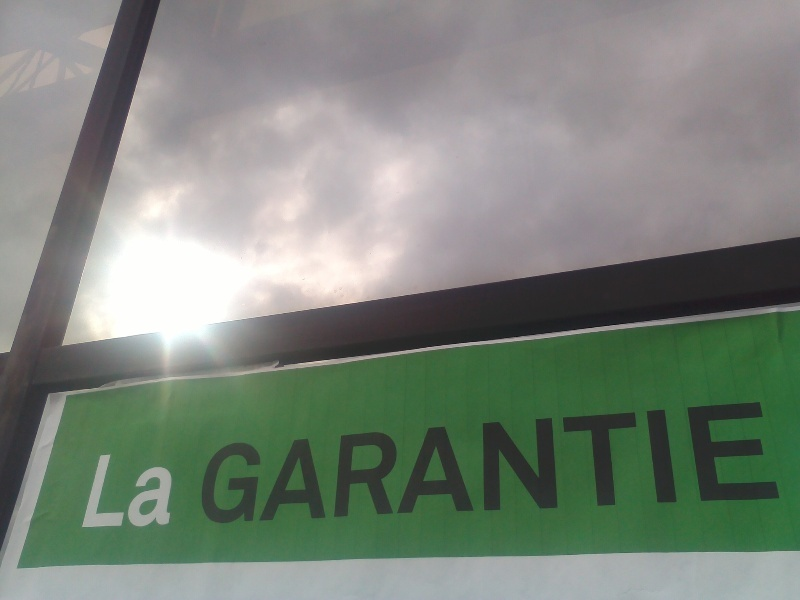text: (209, 402, 224, 529), (225, 402, 240, 529), (241, 402, 256, 529), (257, 402, 272, 529), (273, 402, 288, 529), (289, 402, 304, 529), (305, 402, 320, 529), (321, 402, 336, 529), (337, 402, 352, 529), (353, 402, 368, 529), (369, 402, 384, 529), (385, 402, 400, 529), (401, 402, 416, 529), (417, 402, 432, 529), (433, 402, 448, 529), (449, 402, 464, 529), (465, 402, 480, 529), (481, 402, 496, 529), (497, 402, 512, 529), (513, 402, 528, 529), (529, 402, 544, 529), (545, 402, 560, 529), (561, 402, 576, 529), (577, 402, 592, 529), (593, 402, 608, 529), (609, 402, 624, 529), (625, 402, 640, 529), (641, 402, 656, 529), (657, 402, 672, 529), (673, 402, 688, 529), (689, 402, 704, 529), (705, 402, 720, 529), (721, 402, 736, 529), (737, 402, 752, 529), (753, 402, 768, 529), (769, 402, 780, 529), (113, 453, 128, 529), (129, 453, 144, 529), (145, 453, 160, 529), (161, 453, 174, 529), (101, 453, 112, 529)
